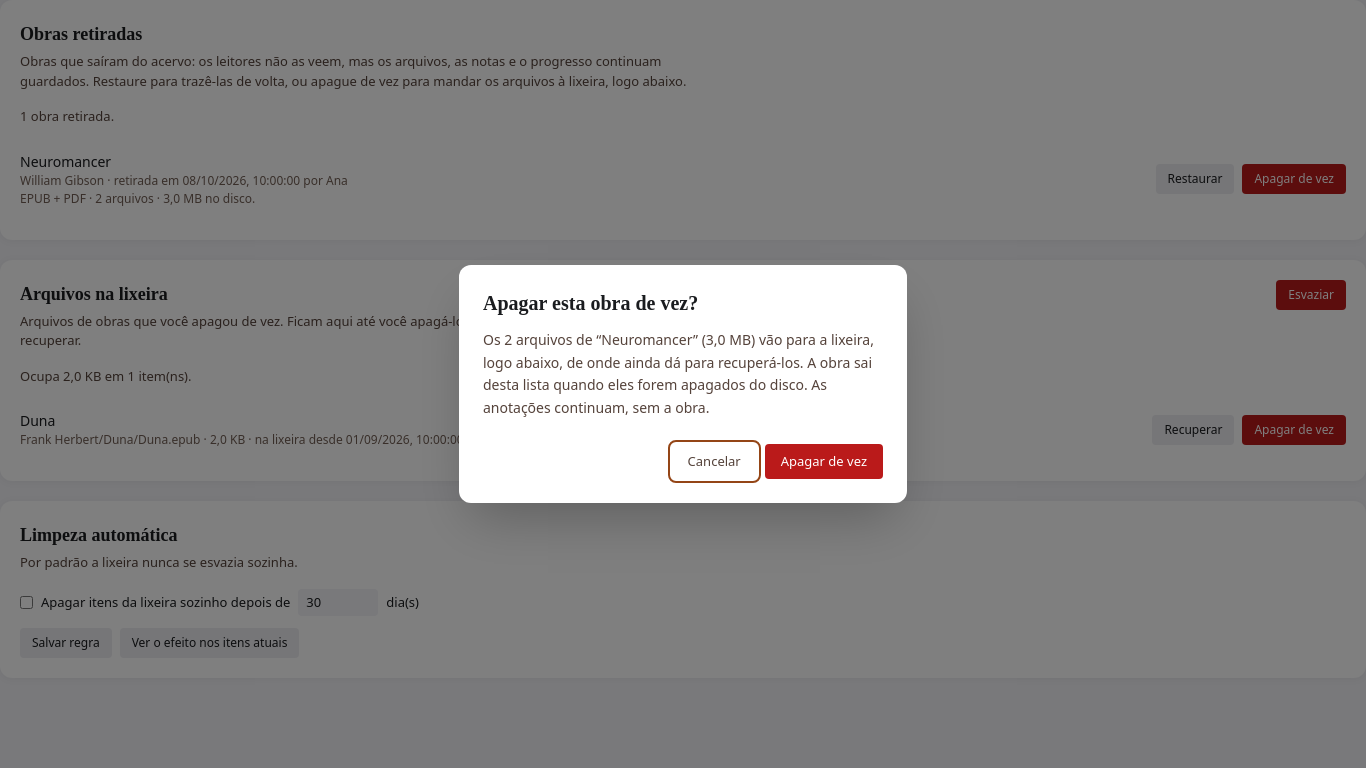
it: TrashTab: the works that were retired (#89) › leaves the work alone when the question is cancelled
This screenshot has width=1366, height=768.
Click the button "Cancelar": click(714, 462) 672,444 -> 757,479
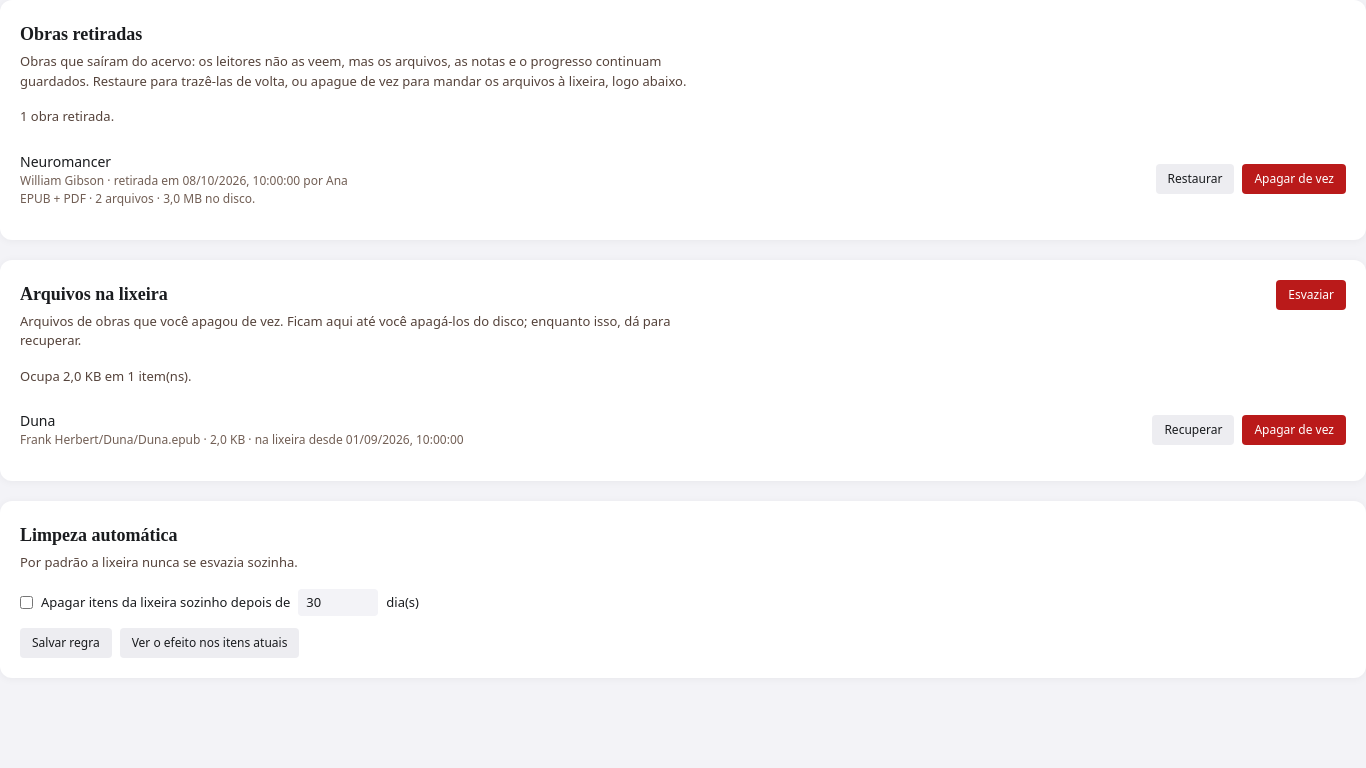
Result: the dialog is gone
